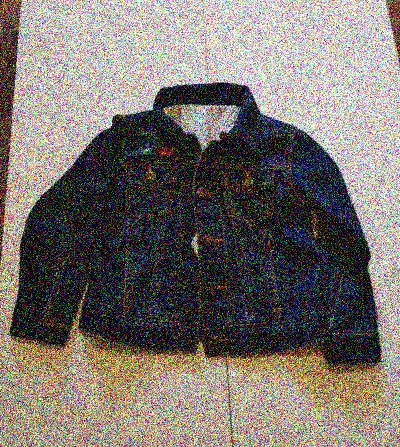Blazer: (17, 63, 389, 394)
